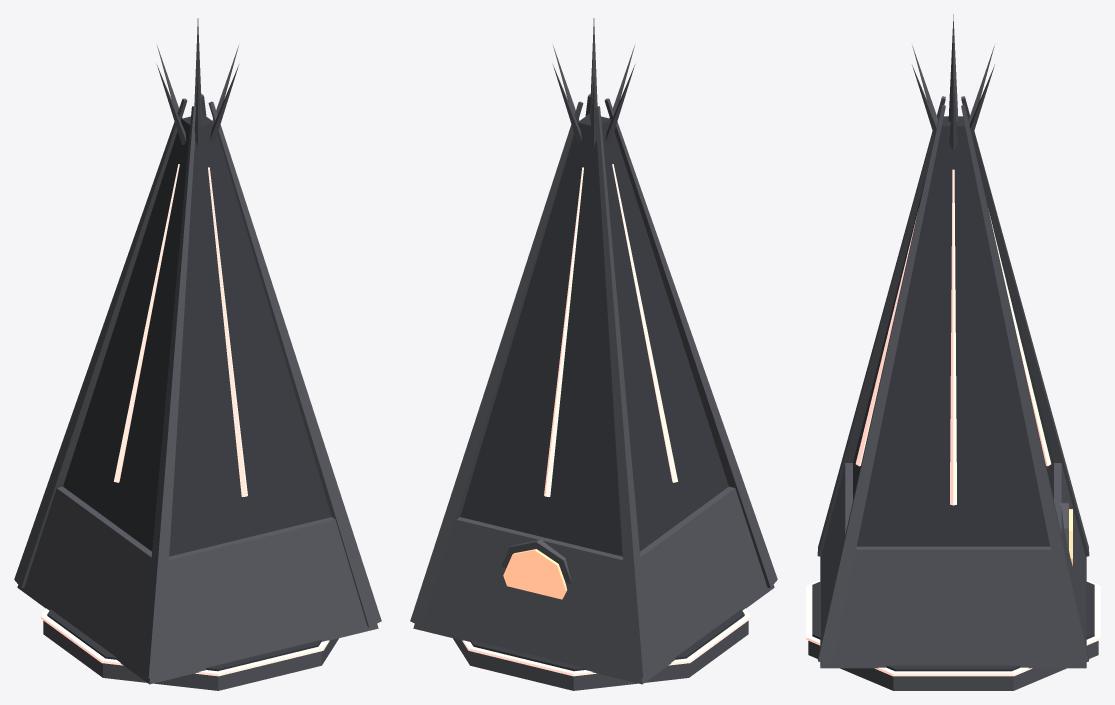
Rendered from zone_high_3.glb.
The picture shows the model from 3 angles, left to right: view 1: azimuth 30°, elevation 25°; view 2: azimuth 150°, elevation 25°; view 3: azimuth 270°, elevation 25°; orthographic projection.
Visible parts, largest first — view 1: zone_high_3; view 2: zone_high_3; view 3: zone_high_3.
Part boxes in pixels (box(x1,y1,x2,y2)): zone_high_3: box(14, 18, 381, 690); zone_high_3: box(410, 18, 777, 690); zone_high_3: box(806, 14, 1100, 690).
Size of the model in its own units: 27.35 by 63.1 by 27.35.
